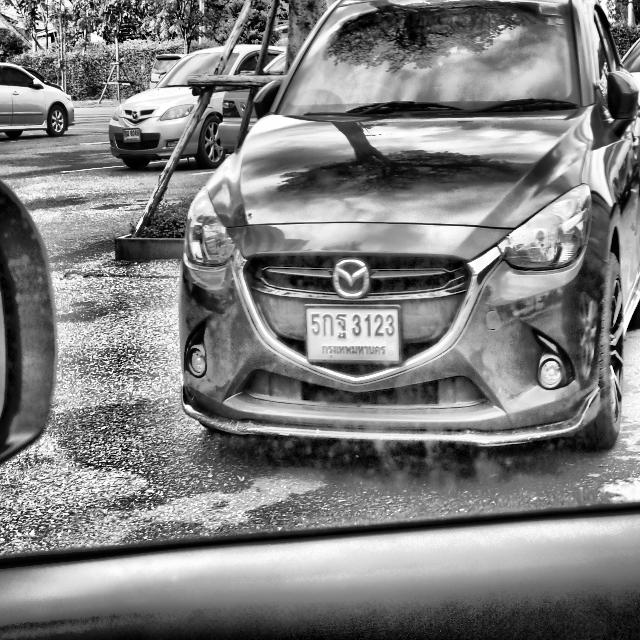license-plate: (304, 300, 405, 370), (122, 127, 142, 143)
